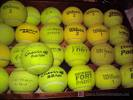tennis ball: (19, 42, 57, 77), (66, 65, 98, 92), (94, 64, 125, 91), (10, 67, 39, 95), (39, 66, 68, 93), (1, 1, 28, 27), (64, 42, 92, 67), (91, 42, 118, 66), (43, 42, 65, 66), (15, 24, 40, 44), (12, 42, 31, 68), (40, 6, 63, 27), (86, 25, 111, 44), (40, 25, 65, 44), (64, 25, 87, 44), (62, 6, 84, 25), (109, 25, 129, 45), (83, 8, 104, 27), (104, 8, 124, 27), (25, 5, 42, 27), (1, 23, 16, 45), (1, 44, 11, 69), (1, 69, 11, 94)
